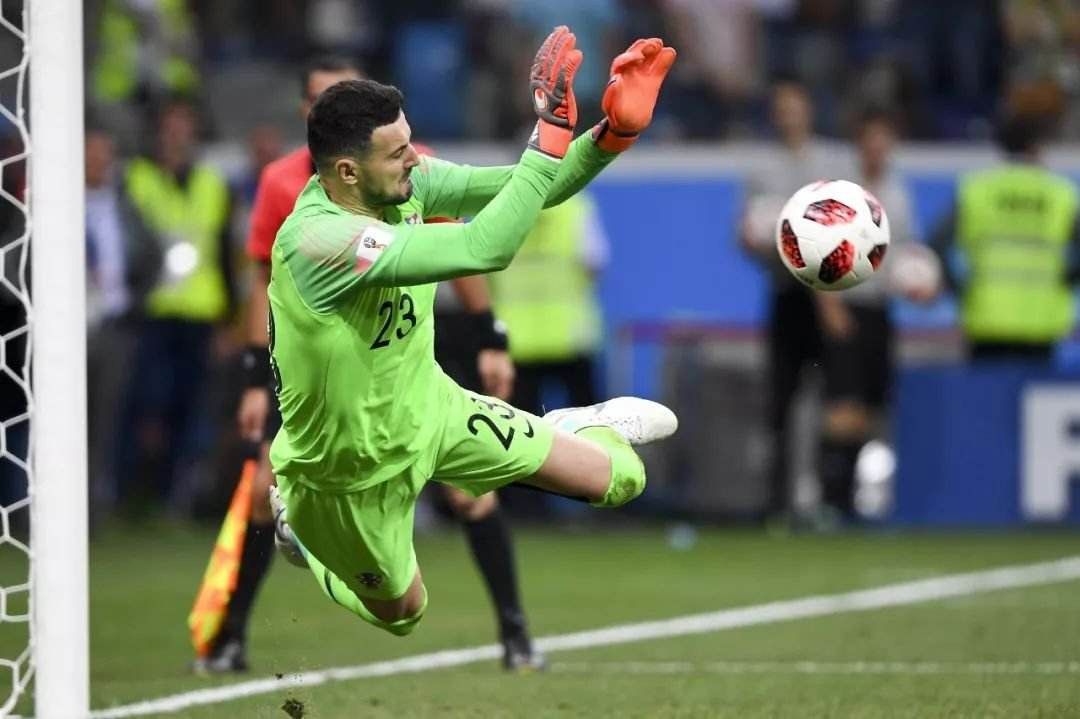no-phone: (598, 34, 678, 135), (523, 22, 588, 127)
